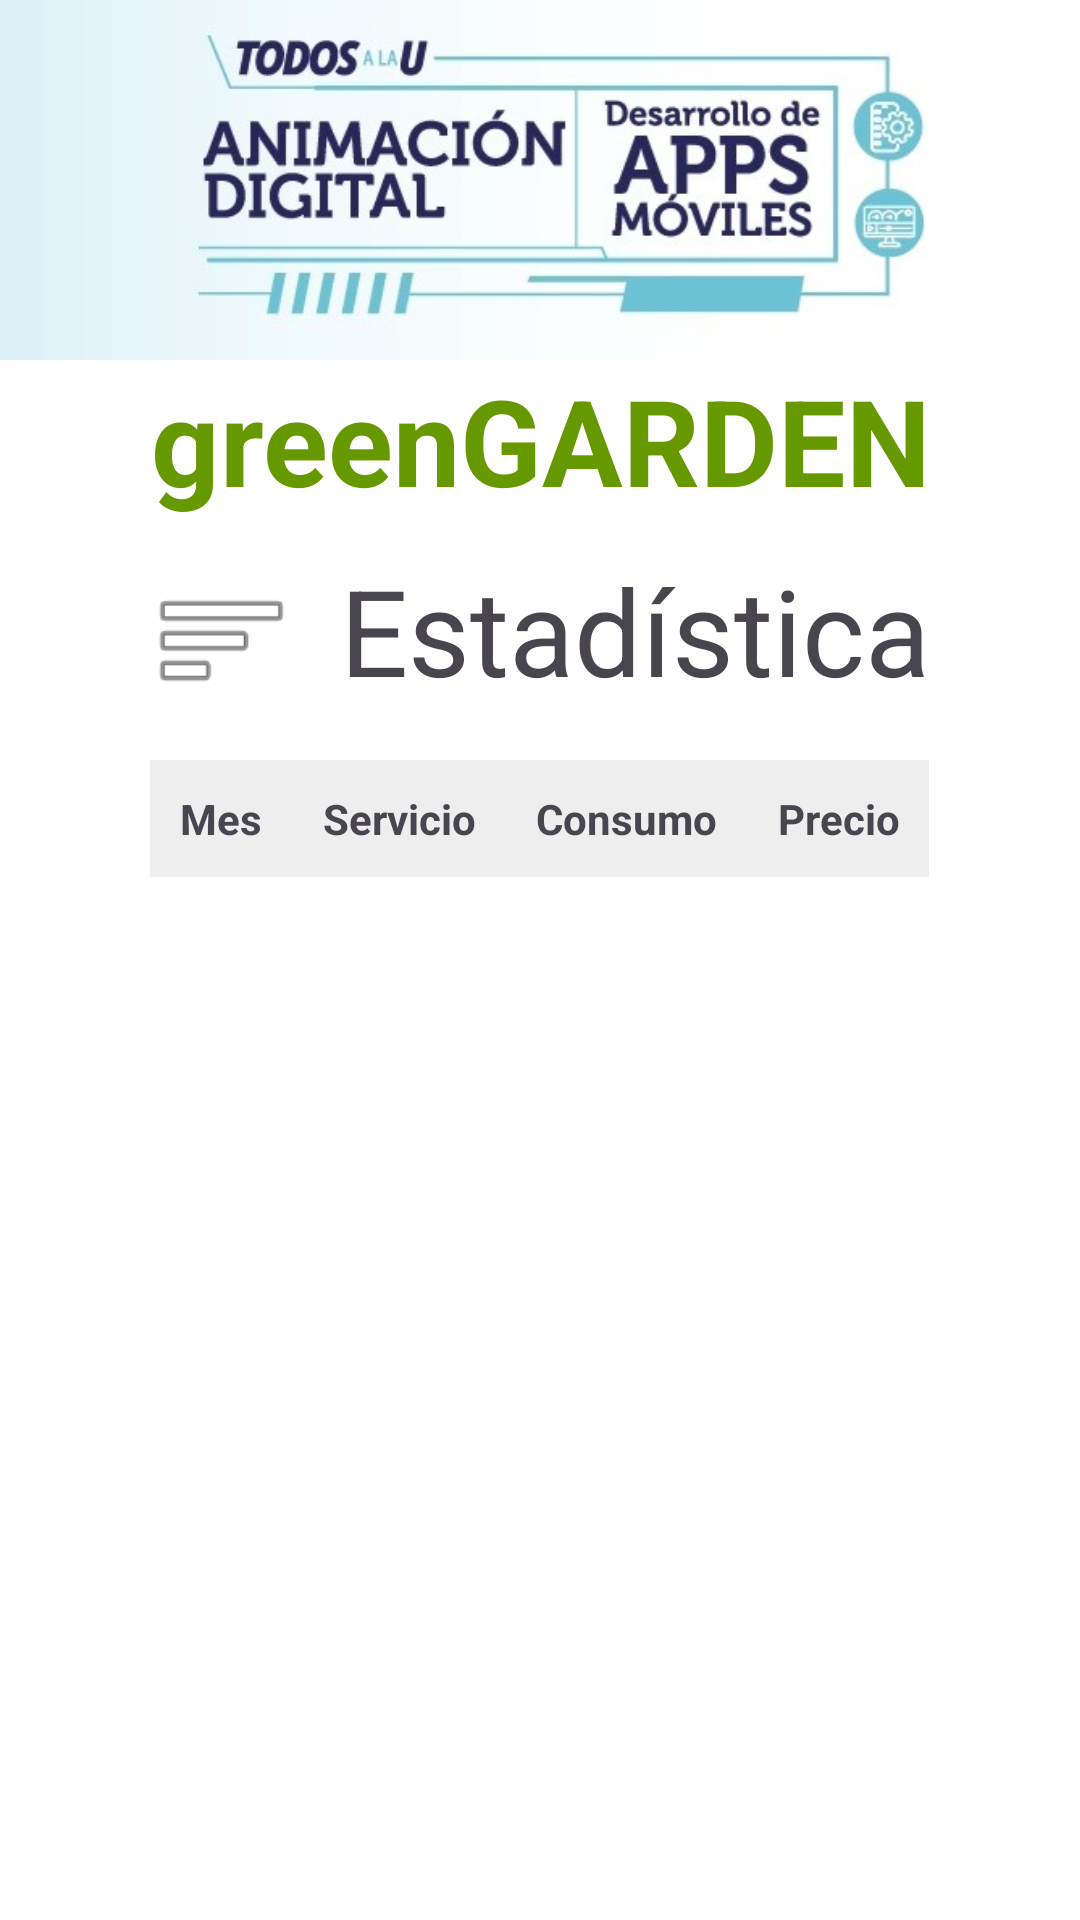

Icon bounding boxes for this 1080 x 1920 phone screenshot, format (x1, y1, x2, y2):
sort by size: (160, 601, 283, 681)
